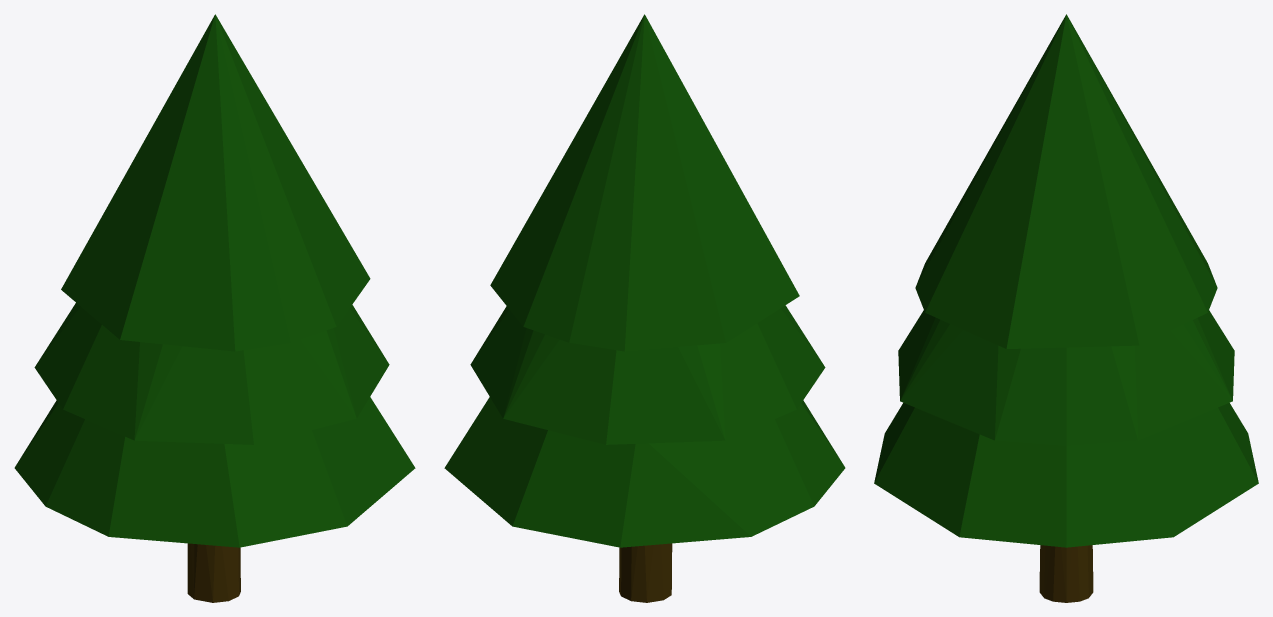
The model's file is Tree1.fbx.
The picture shows the model from 3 angles, left to right: view 1: azimuth 30°, elevation 25°; view 2: azimuth 150°, elevation 25°; view 3: azimuth 270°, elevation 25°; orthographic projection.
Visible parts, largest first — view 1: Cone, Cylinder; view 2: Cone, Cylinder; view 3: Cone, Cylinder.
Part boxes in pixels (x1=…): Cone: x1=14, y1=14, x2=415, y2=547; Cylinder: x1=187, y1=543, x2=240, y2=602; Cone: x1=444, y1=14, x2=845, y2=547; Cylinder: x1=619, y1=543, x2=672, y2=602; Cone: x1=874, y1=14, x2=1258, y2=547; Cylinder: x1=1039, y1=545, x2=1093, y2=602.
Size of the model in its own units: 650 by 1065 by 642.
